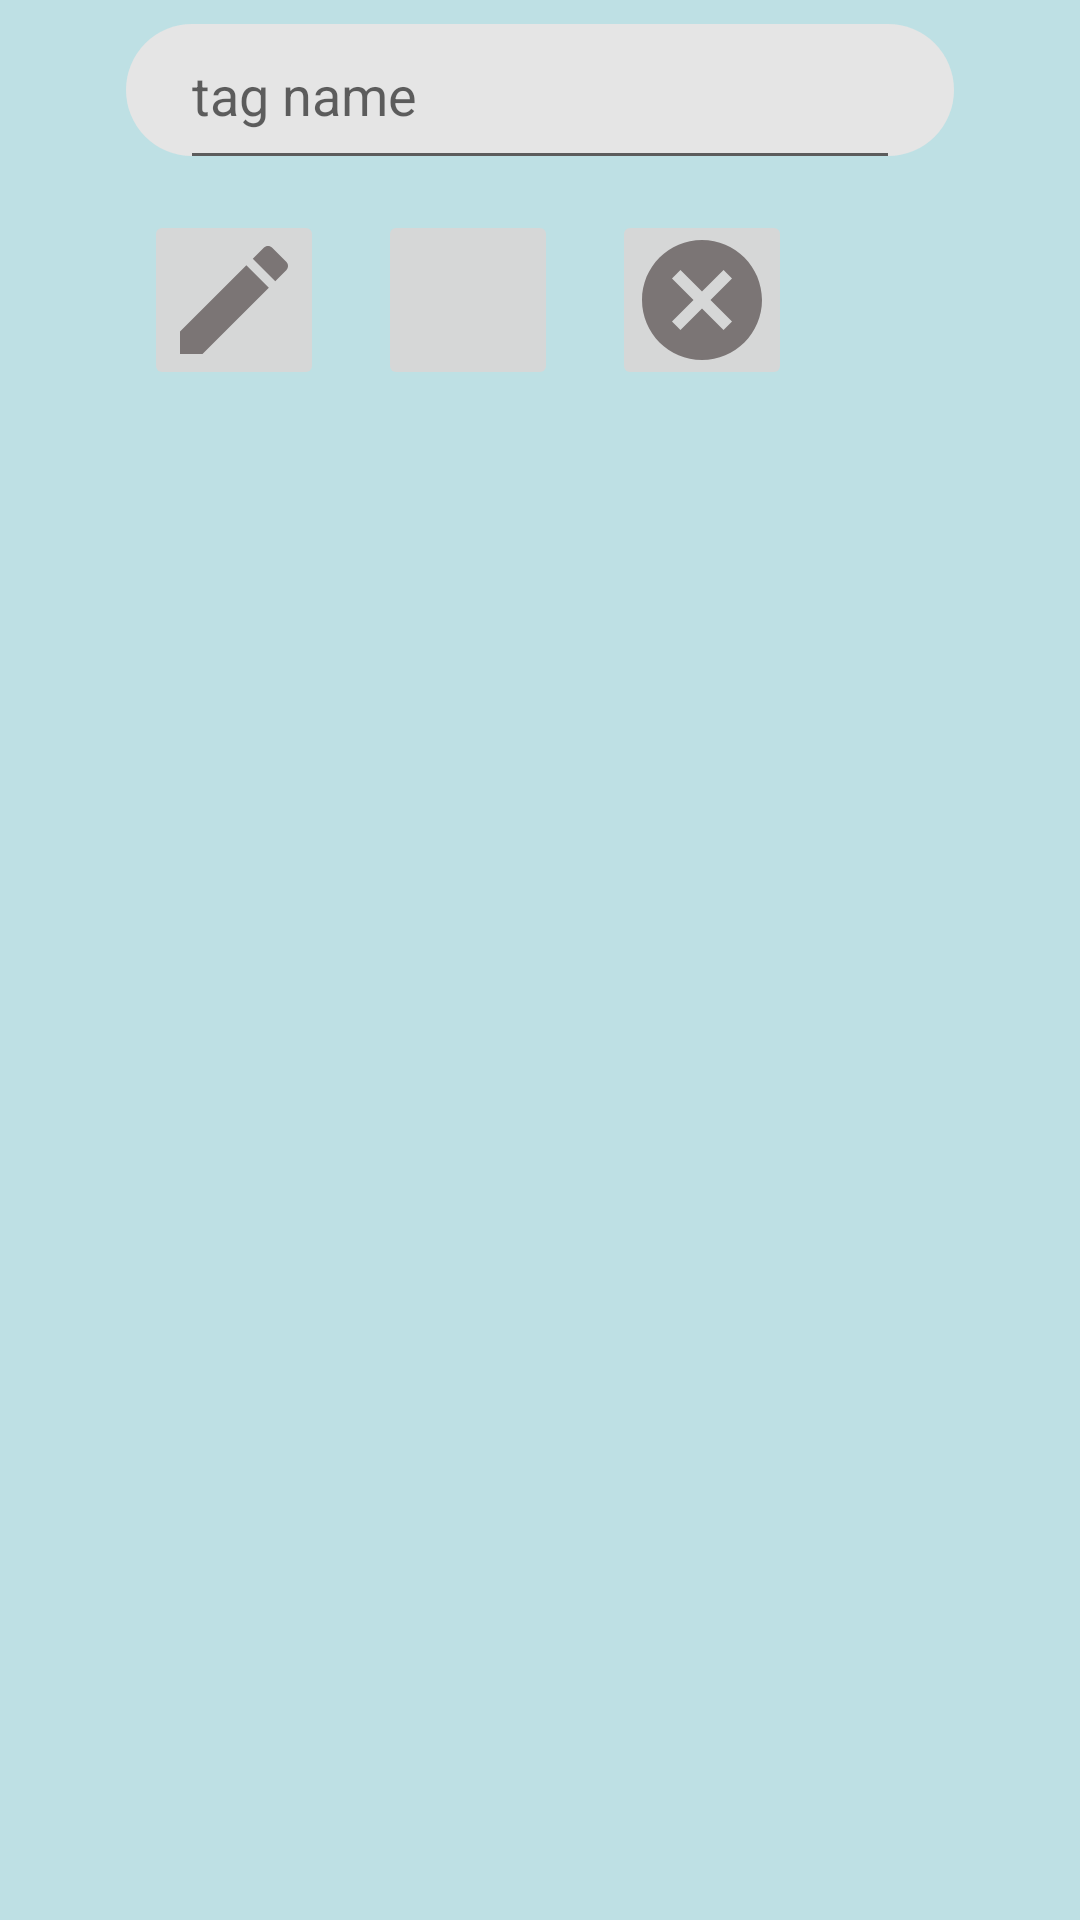

Named icons in this screenshot (1080w x 1920h) and their bounding boxes, (x1, y1, x2, y2):
cancel: (642, 240, 762, 360)
edit: (156, 228, 312, 372)
